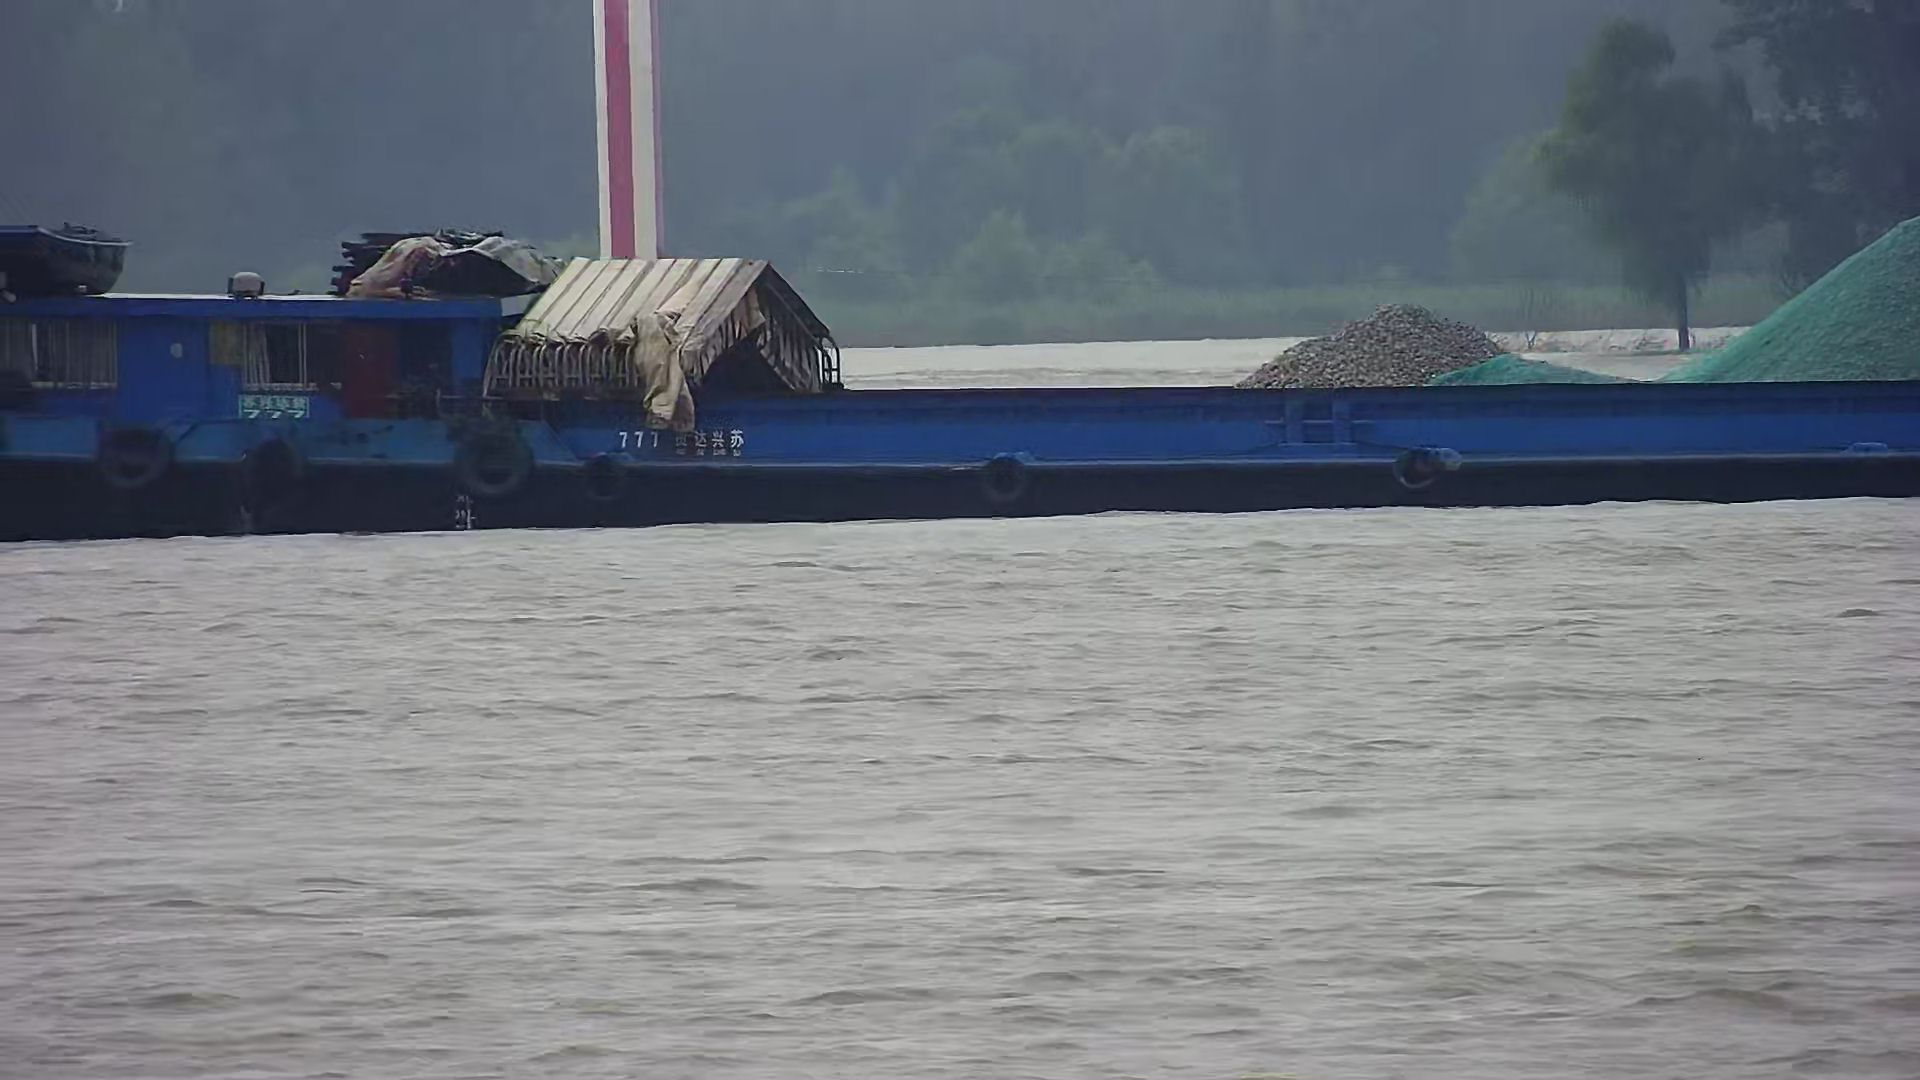ship: (7, 222, 1920, 545)
tree: (1538, 18, 1768, 351)
